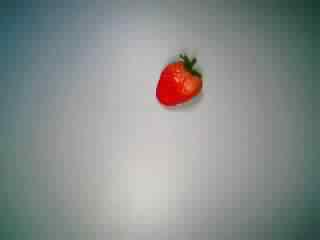strawberry: (144, 50, 210, 116)
